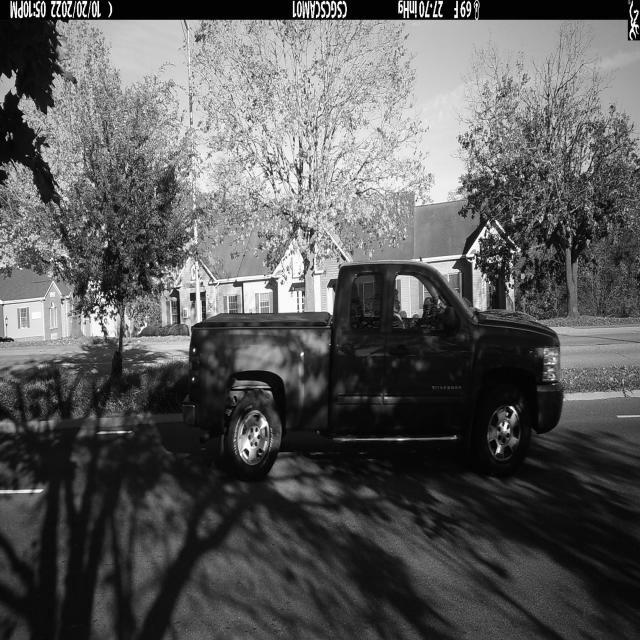Pickup: (182, 260, 564, 482)
